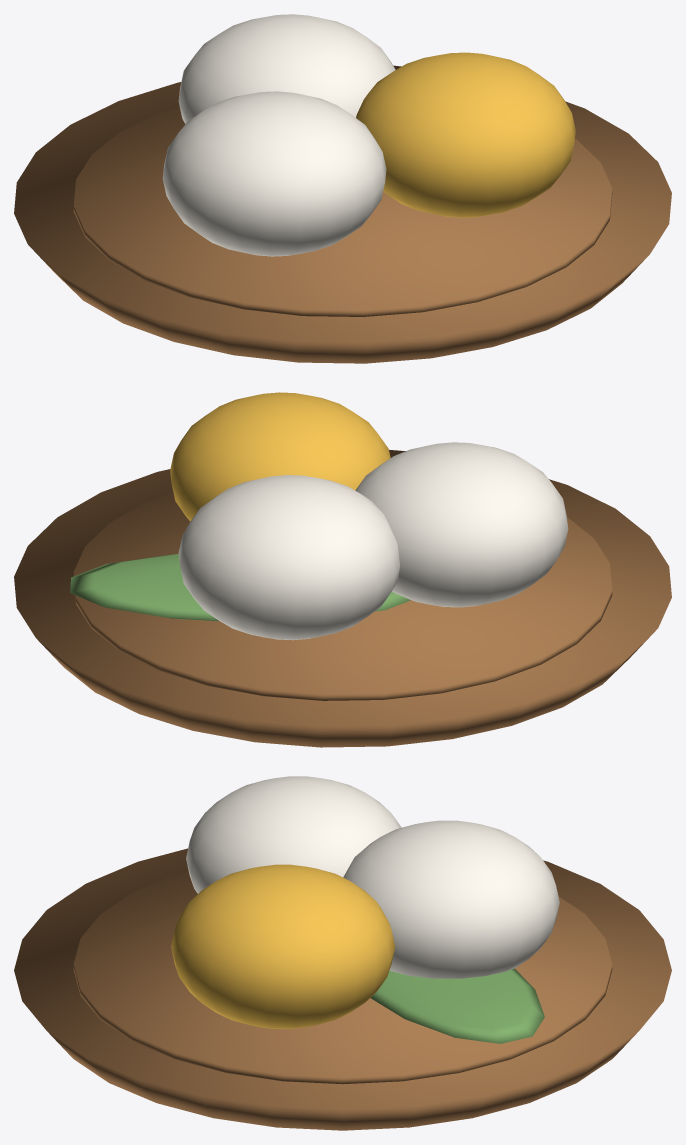
The model's file is night-moon-tteok.glb.
3 views of the same model, one above another, from view 1: azimuth 30°, elevation 25°; view 2: azimuth 150°, elevation 25°; view 3: azimuth 270°, elevation 25° (orthographic).
Visible parts, largest first — view 1: tteok; view 2: tteok; view 3: tteok.
Part boxes in pixels (bbox=[...]): tteok: bbox=[14, 14, 671, 363]; tteok: bbox=[14, 392, 671, 747]; tteok: bbox=[14, 776, 671, 1130].
Bounding box in the file's own units: 0.44 × 0.125 × 0.44.
